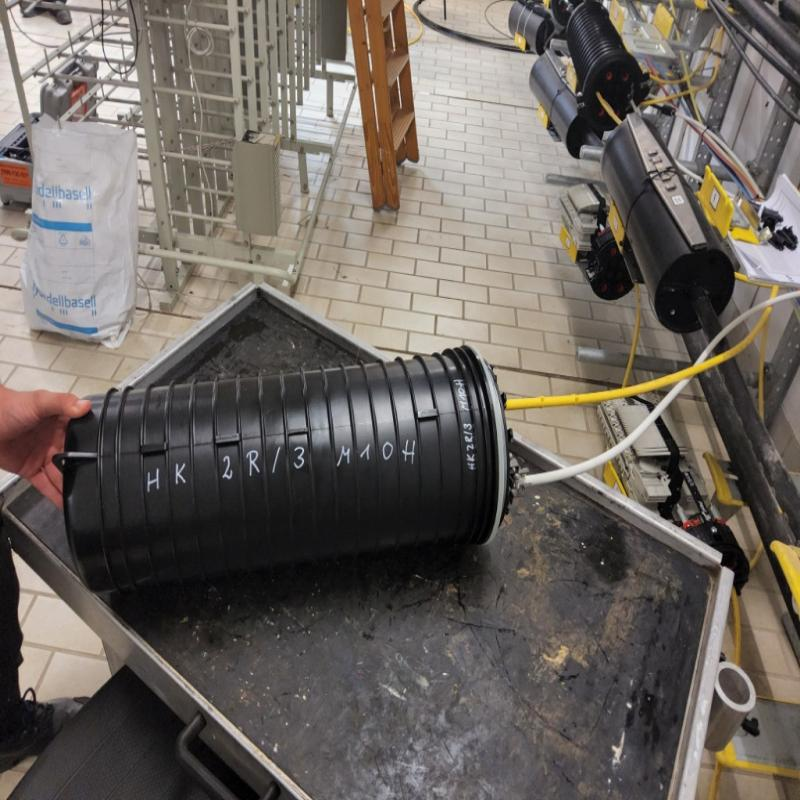NT-Muffen: (60, 343, 519, 589)
